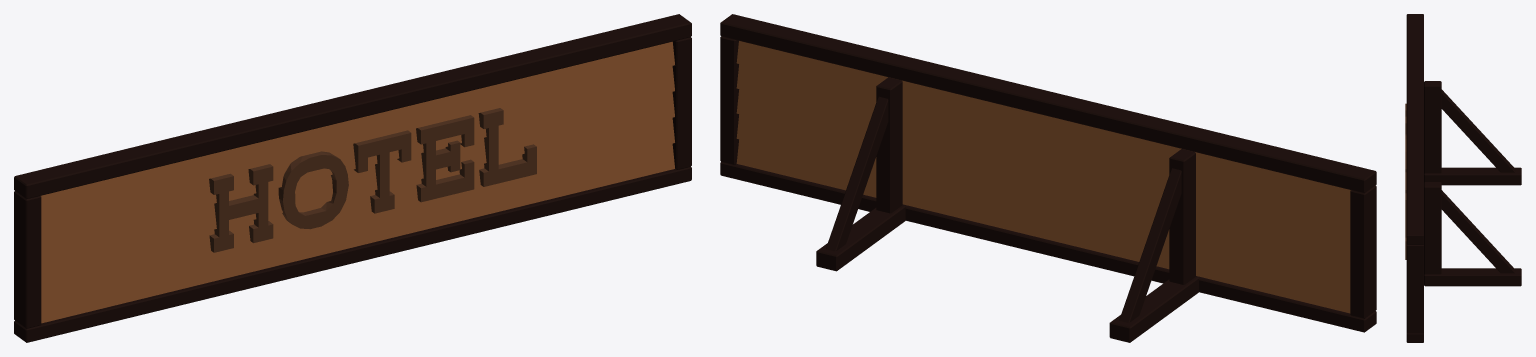
File: ww_hotel_sign_a.glb
The picture shows the model from 3 angles, left to right: view 1: azimuth 30°, elevation 25°; view 2: azimuth 150°, elevation 25°; view 3: azimuth 270°, elevation 25°; orthographic projection. The views are drawn at different scales.
Visible parts, largest first — view 1: Hotel_Sign_A; view 2: Hotel_Sign_A; view 3: Hotel_Sign_A.
Part boxes in pixels (x1,y1,x2,y2): Hotel_Sign_A: (14, 14, 691, 342); Hotel_Sign_A: (720, 14, 1376, 342); Hotel_Sign_A: (1405, 14, 1521, 342).
Bounding box in the file's own units: 10.56 × 2.4 × 2.34.
